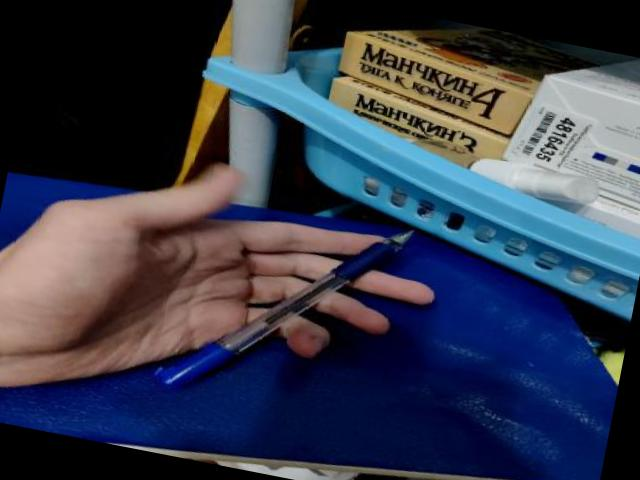PEN: (143, 202, 422, 402)
